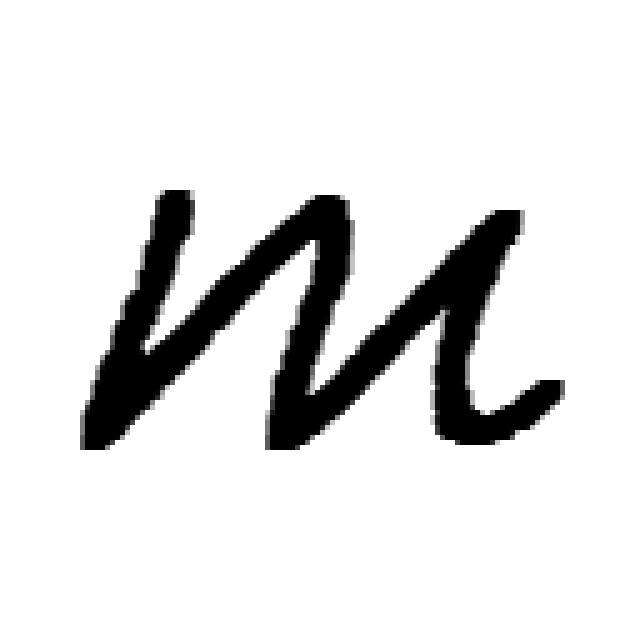M: (67, 190, 570, 468)
